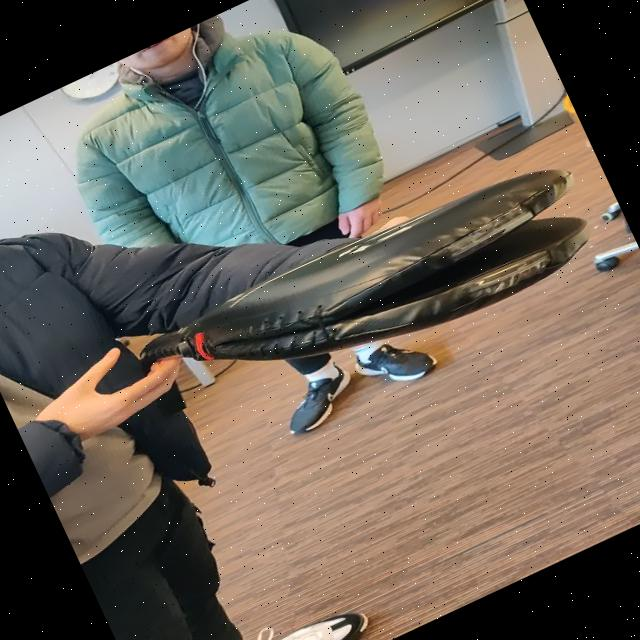paddle: (137, 168, 593, 362)
